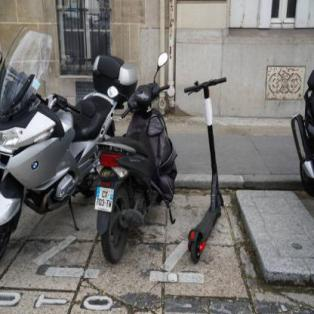Motocicleta: (0, 39, 121, 240), (99, 76, 177, 262)
